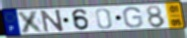0: (94, 8, 114, 30)
6: (71, 8, 91, 31)
8: (145, 5, 166, 29)
G: (122, 6, 144, 29)
N: (40, 9, 66, 34)
X: (15, 10, 46, 34)
